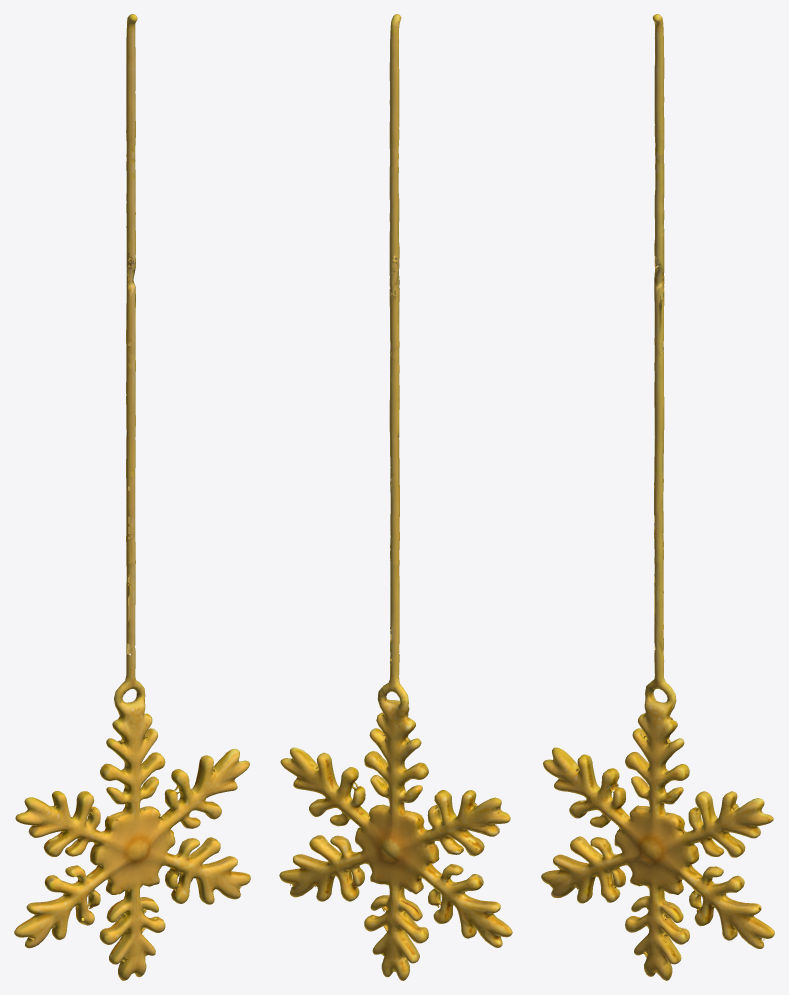
Rendered from Meshy_AI_Golden_Snowflake_Orna_0102103744_texture.fbx.
The picture shows the model from 3 angles, left to right: view 1: azimuth 30°, elevation 25°; view 2: azimuth 150°, elevation 25°; view 3: azimuth 330°, elevation 25°; orthographic projection.
Visible parts, largest first — view 1: Mesh0; view 2: Mesh0; view 3: Mesh0.
Boxes of the visible parts, box(x1,y1,x2,y2) form: Mesh0: box(14, 14, 250, 980); Mesh0: box(279, 14, 512, 980); Mesh0: box(541, 14, 774, 980).
Size of the model in its own units: 48.43 by 191 by 5.69.
1 material, 1 textured.
